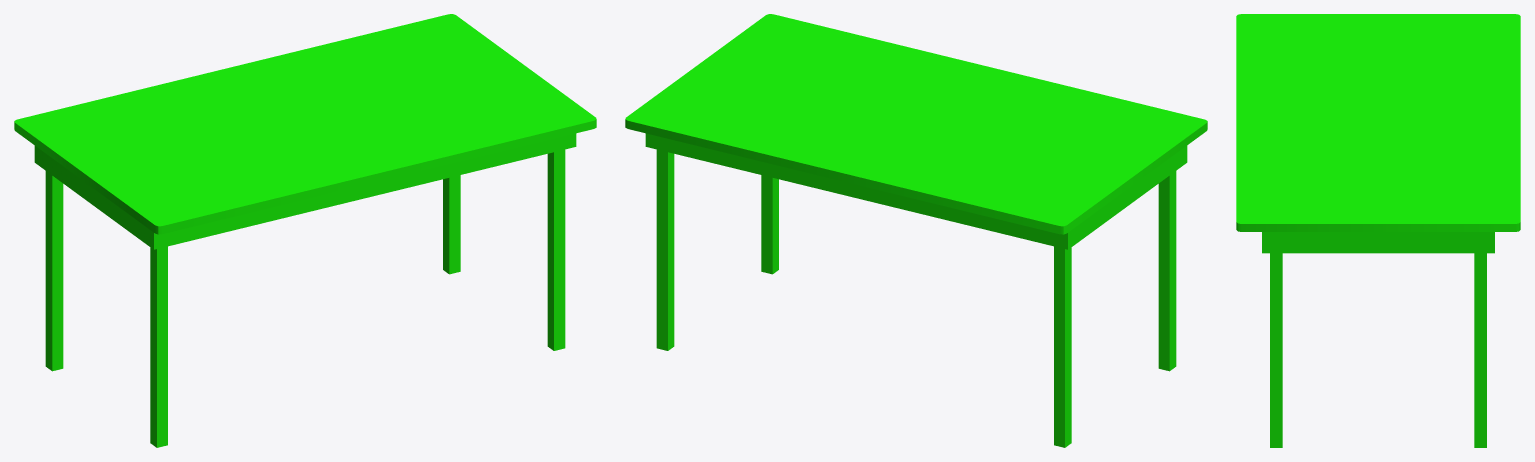
File: Lab table.fbx
The picture shows the model from 3 angles, left to right: view 1: azimuth 30°, elevation 25°; view 2: azimuth 150°, elevation 25°; view 3: azimuth 270°, elevation 25°; orthographic projection. The views are drawn at different scales.
Parts seen in each view (by area): view 1: Lab table; view 2: Lab table; view 3: Lab table.
Part boxes in pixels (<box>): Lab table: <box>14,14,596,447</box>; Lab table: <box>625,14,1207,447</box>; Lab table: <box>1236,14,1520,447</box>.
Bounding box in the file's own units: 1.76 × 0.904 × 1.
